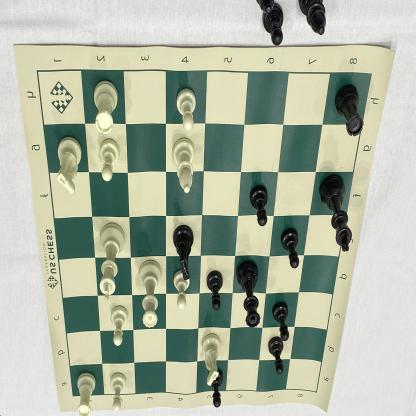black-king: (320, 171, 354, 256)
black-knight: (170, 223, 198, 281)
black-pawn: (247, 180, 272, 230), (204, 268, 226, 316), (270, 300, 291, 346), (280, 226, 301, 270), (266, 334, 286, 379), (208, 366, 226, 411)
black-queen: (235, 258, 262, 331)
black-rook: (333, 82, 365, 140)
white-bishop: (169, 136, 196, 198)
white-king: (95, 218, 127, 304)
white-knight: (52, 134, 84, 198), (197, 330, 224, 392)
white-pawn: (96, 136, 122, 184), (174, 85, 200, 133), (107, 302, 129, 350), (170, 270, 193, 312), (107, 373, 128, 413)
white-queen: (136, 256, 164, 334)
white-rook: (89, 75, 124, 136), (73, 370, 98, 416)
